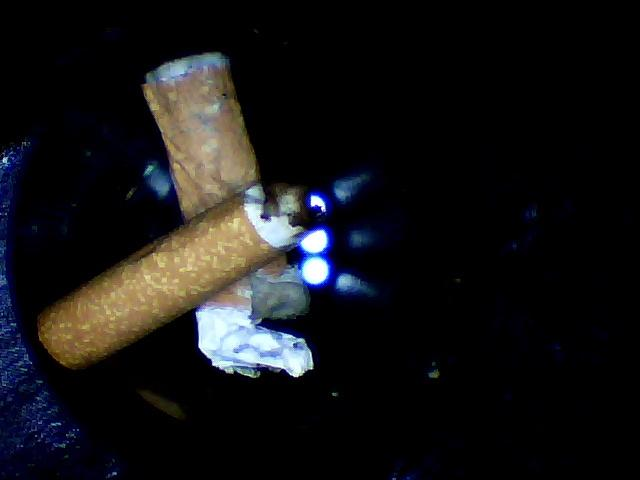megot: (130, 35, 331, 383), (24, 176, 330, 373)
